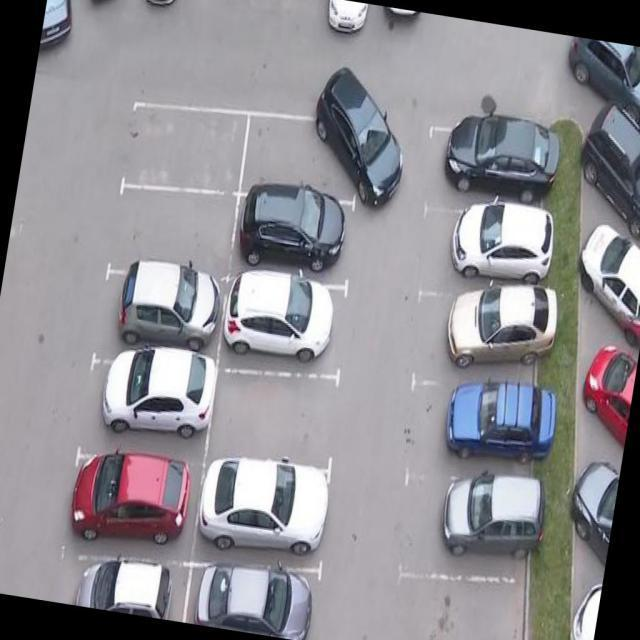car: (398, 364, 548, 502), (404, 274, 548, 404), (401, 464, 541, 589), (61, 440, 208, 559), (412, 191, 554, 312), (220, 267, 355, 387), (192, 466, 336, 574), (80, 350, 222, 456), (420, 108, 550, 211), (93, 259, 231, 355), (229, 182, 360, 282), (236, 110, 370, 202), (181, 560, 321, 640), (65, 552, 193, 621)
free: (206, 358, 352, 476), (112, 182, 240, 280), (120, 98, 249, 194), (391, 562, 537, 640)
